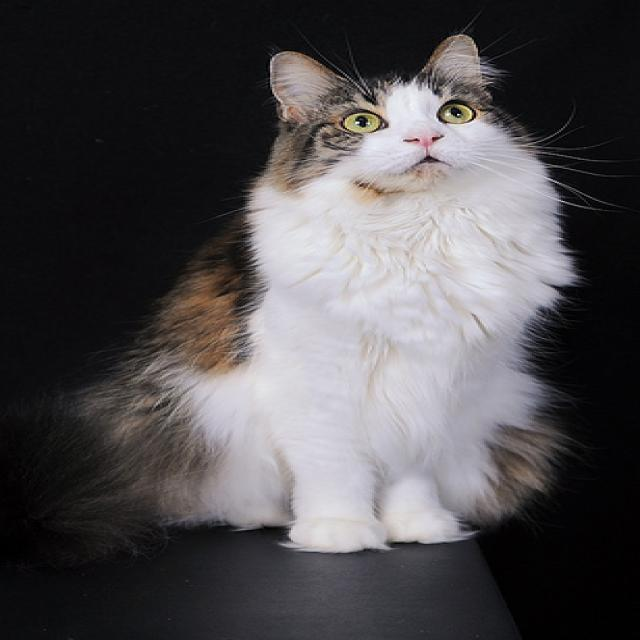Maine_Coon: (266, 26, 529, 216)
